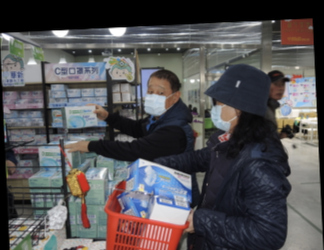with_mask: (142, 83, 174, 117), (209, 97, 234, 133)
without_mask: (269, 80, 286, 101)
